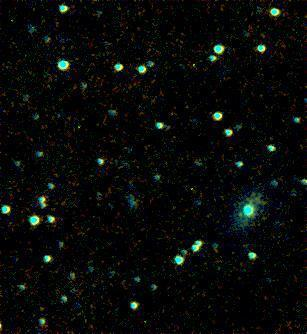star: (226, 203, 256, 233)
